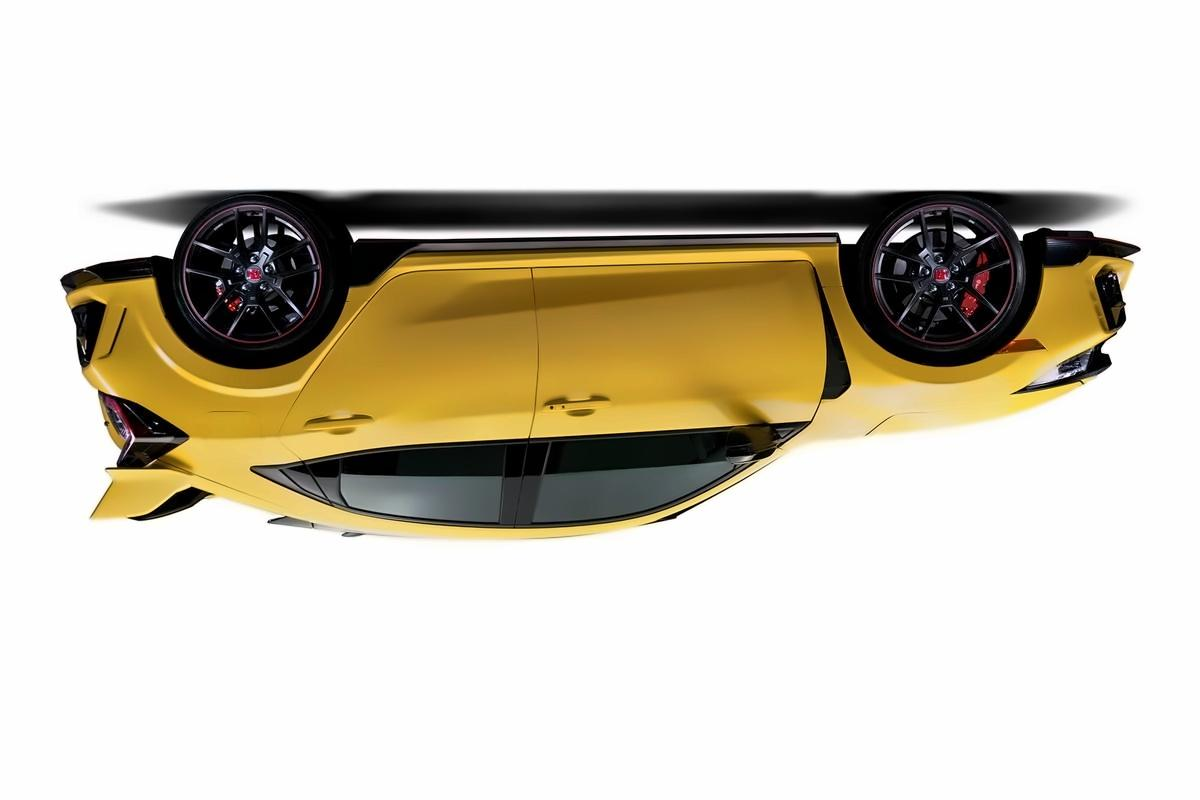Car hood: (862, 376, 1089, 444)
Fender - -F-L-: (816, 274, 1062, 443)
Fender - -R-L-: (186, 267, 377, 446)
Front bumper: (1019, 220, 1142, 360)
Headlight - -L-: (1010, 332, 1123, 404)
Passenger-s door - -F-L-: (519, 255, 816, 538)
Passenger-s door - -R-L-: (274, 259, 534, 539)
Rear bumper: (52, 249, 184, 392)
Rear light - -L-: (83, 383, 191, 476)
Side bumper - -L-: (333, 223, 850, 306)
